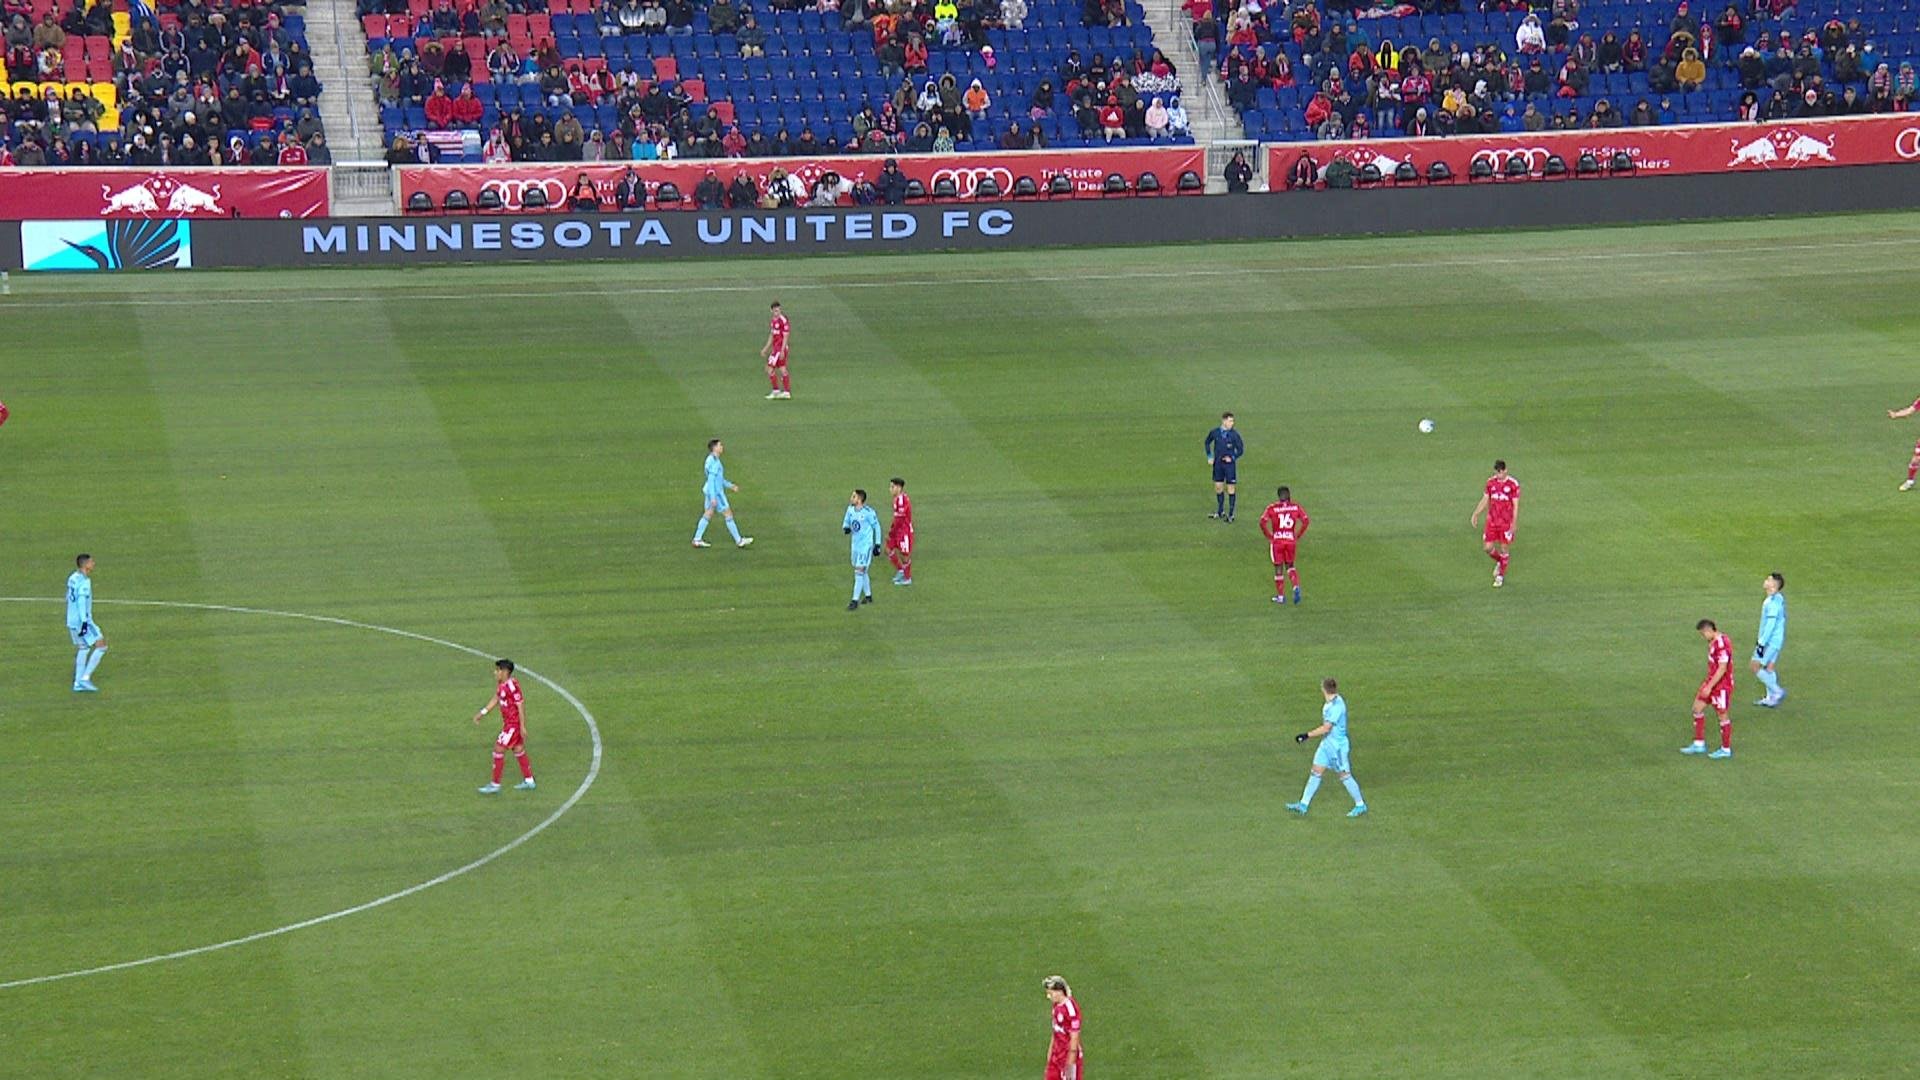football: (1418, 418, 1435, 435)
